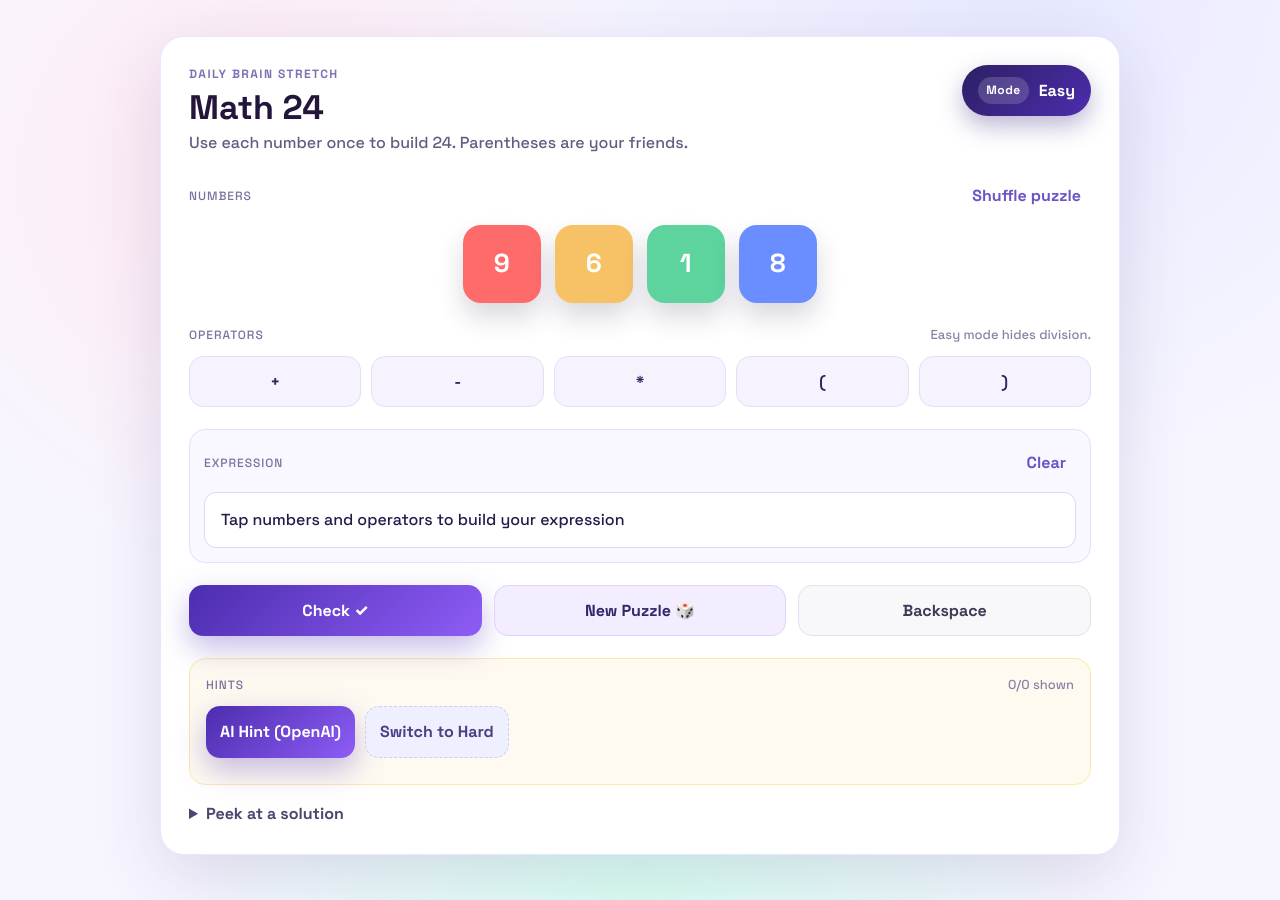
Test case: Math24Game › Solution Checking › shows success message for correct solution
Click the button "9" at (502, 264), box [463,225,541,303]
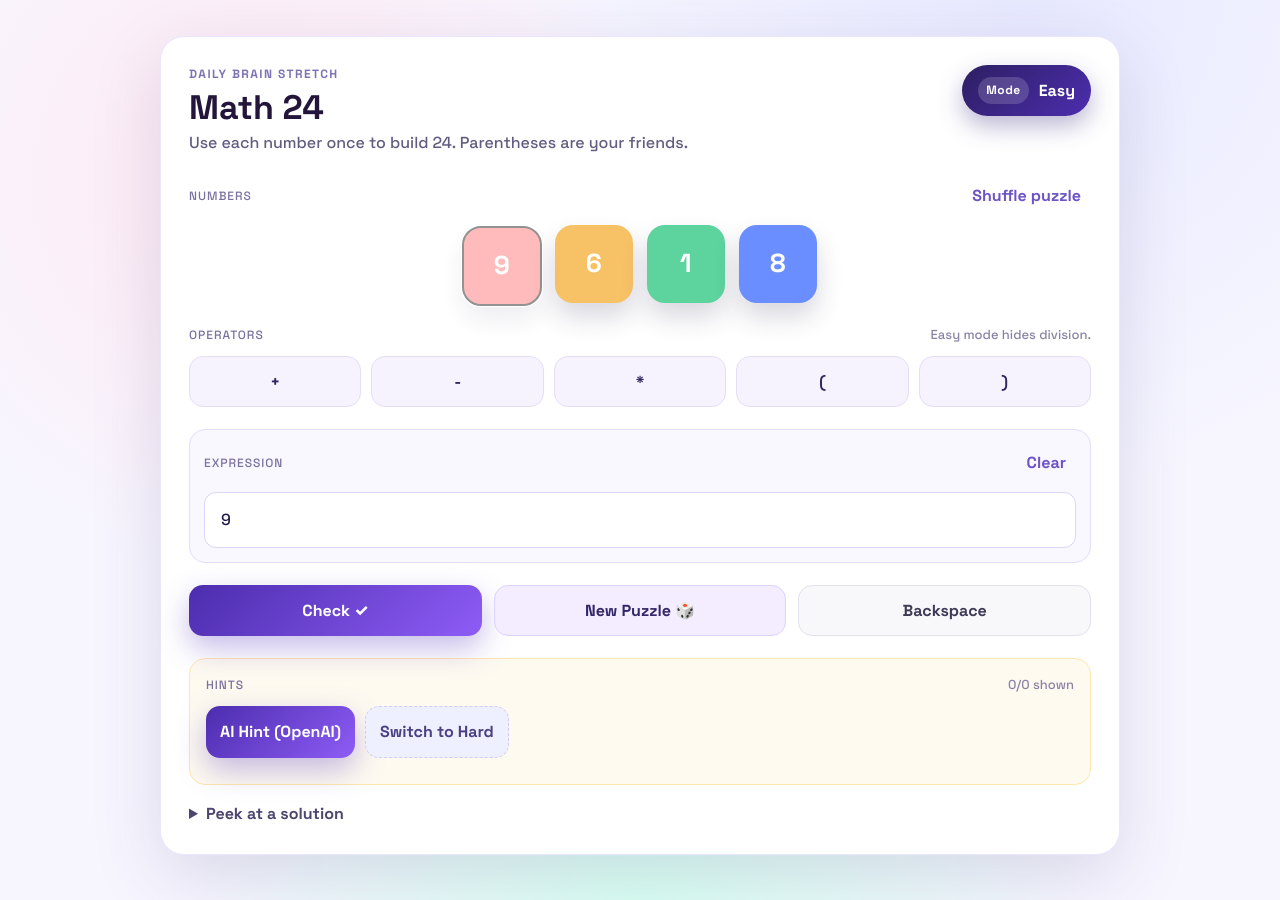
Click the button "6" at (594, 264), box [555,225,633,303]
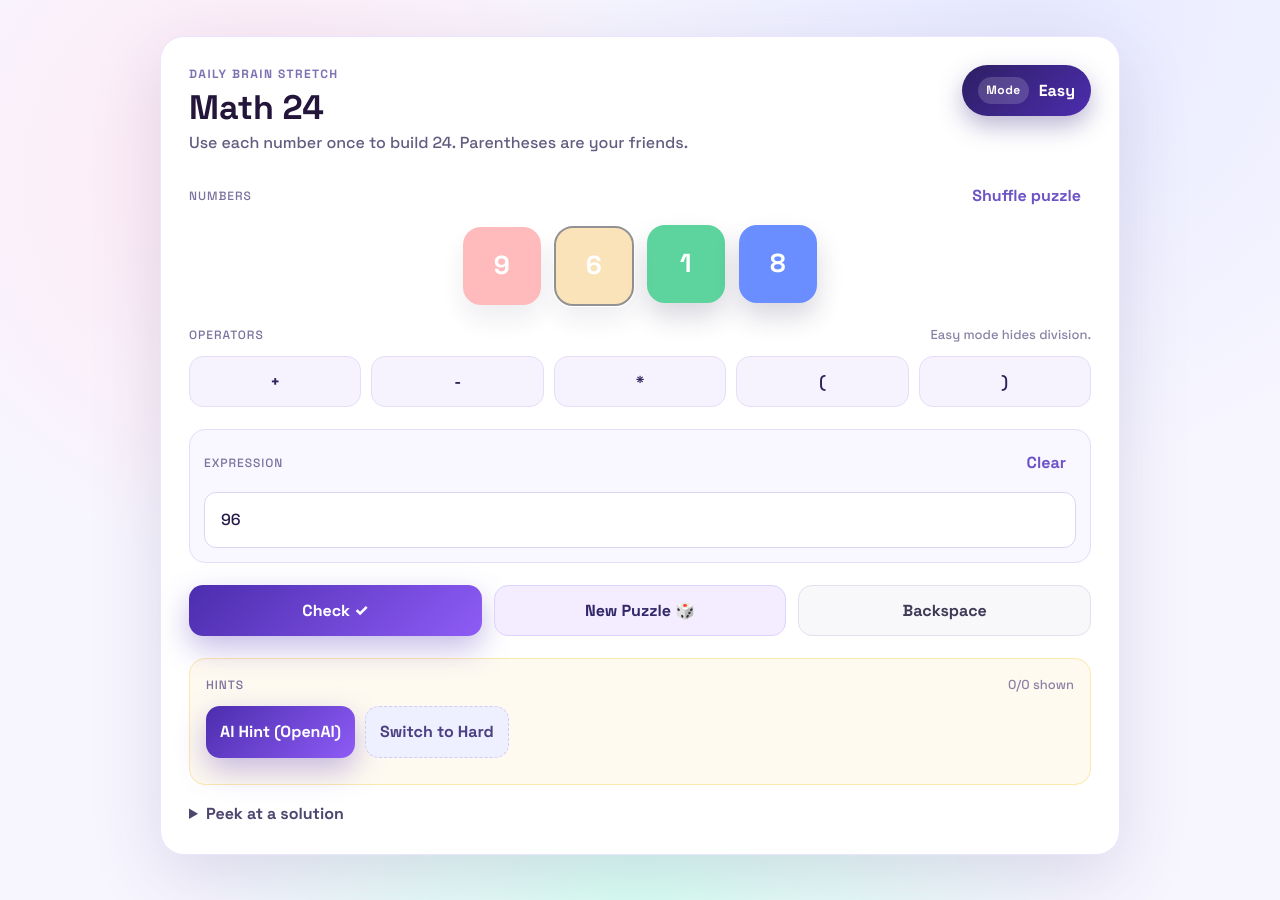
Click the button "1" at (686, 264), box [647,225,725,303]
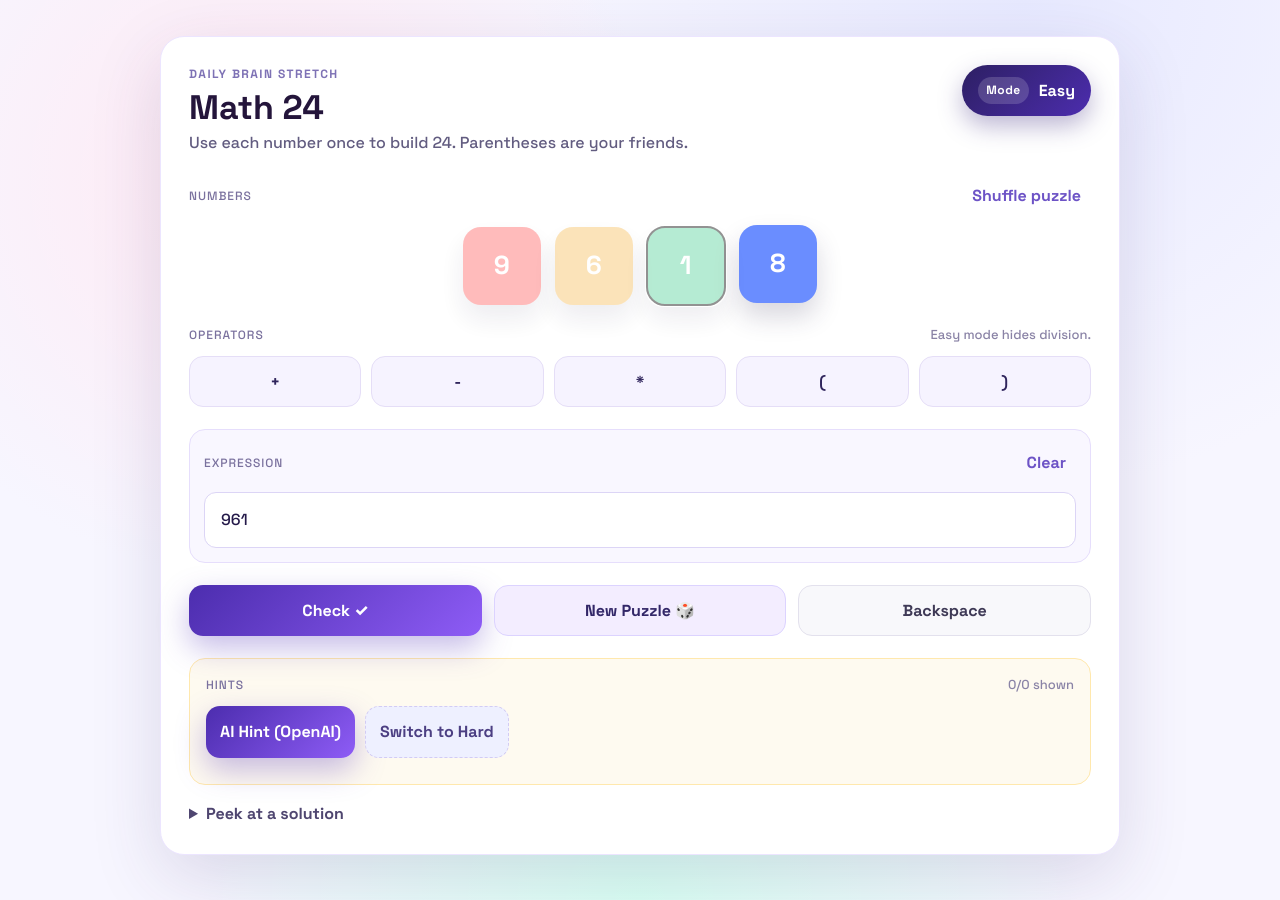
Click the button "8" at (778, 264), box [739,225,817,303]
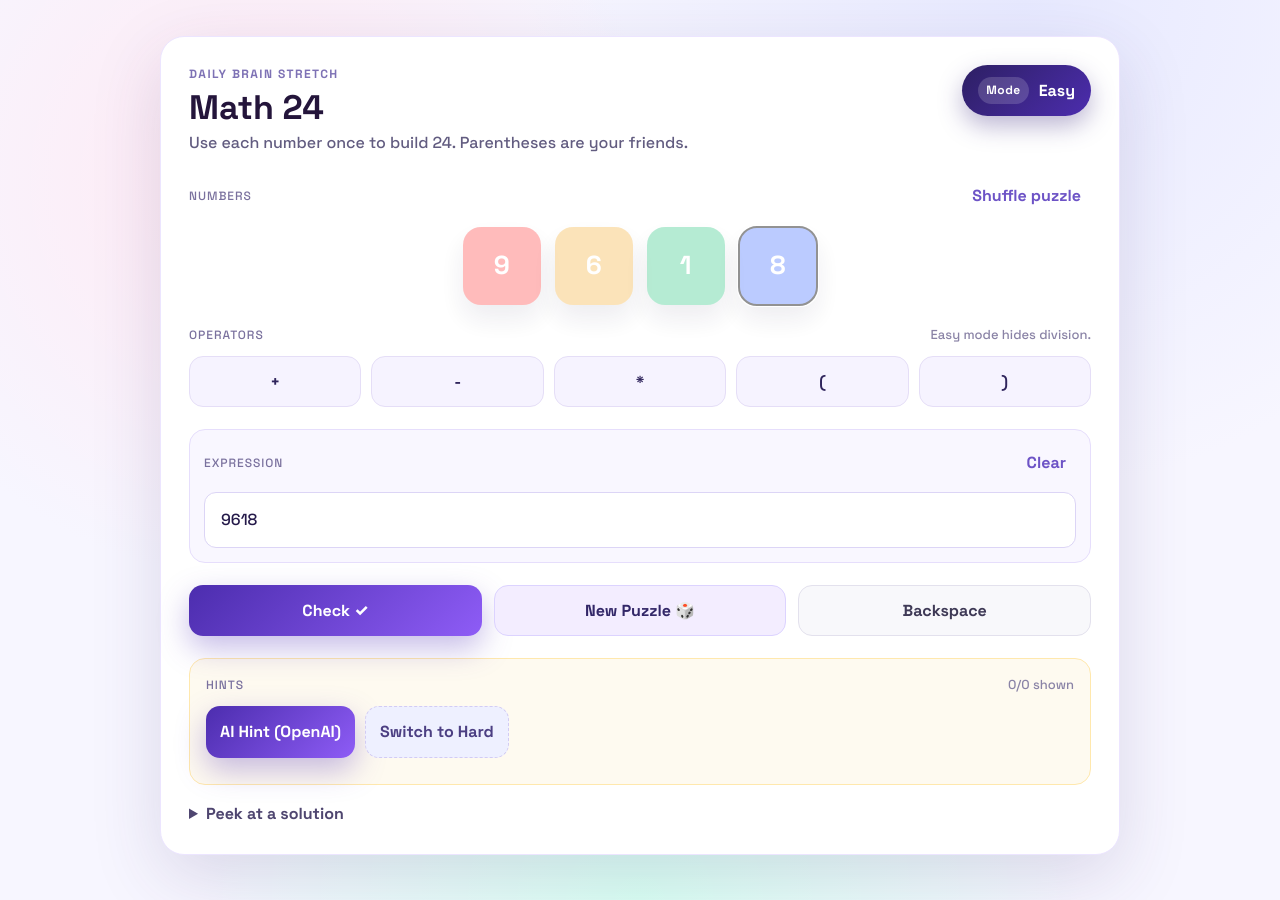
Click the button "Check ✓" at (335, 610), box [189,585,482,636]
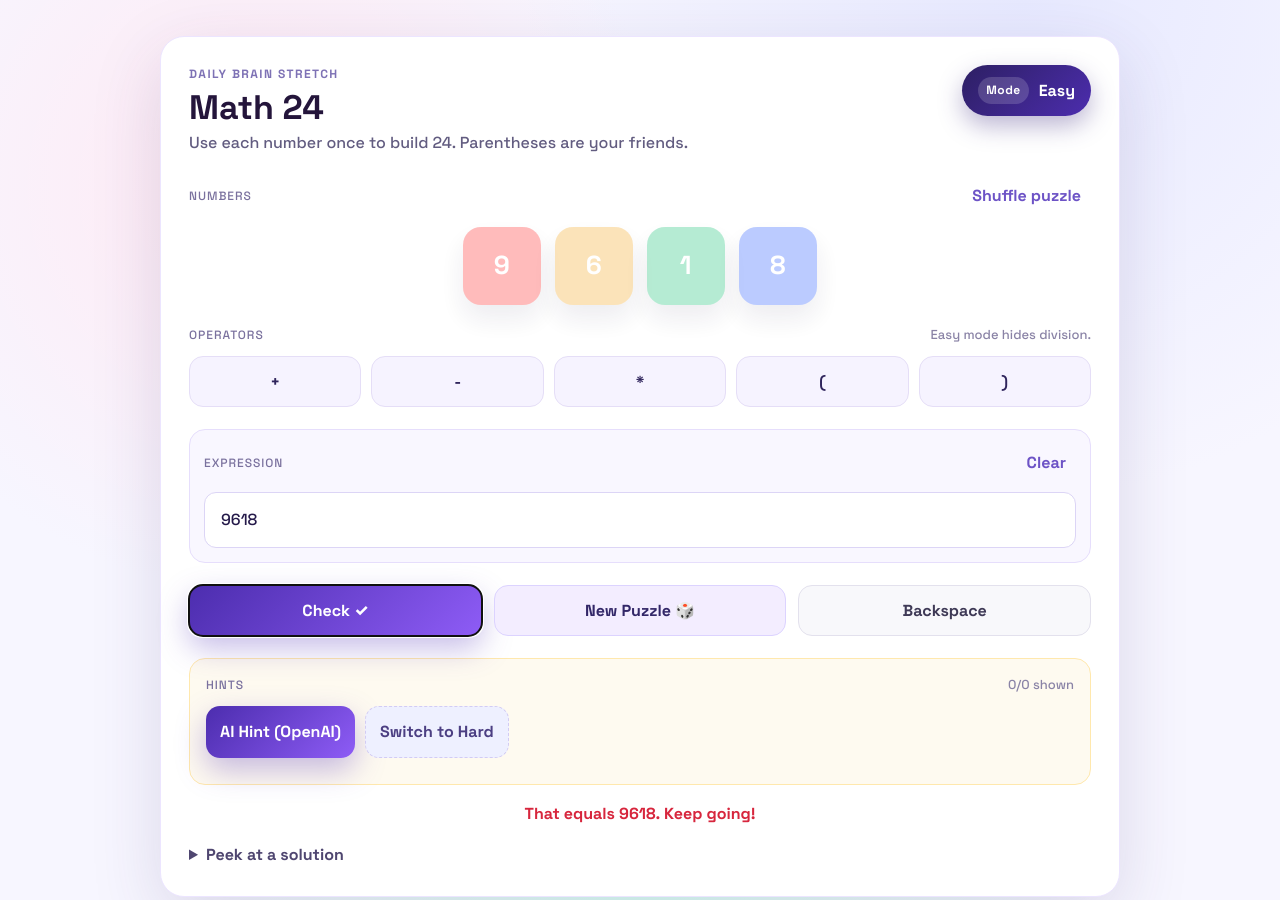
Check: the text "That equals 9618. Keep going!" is shown, box [524,803,756,824]
